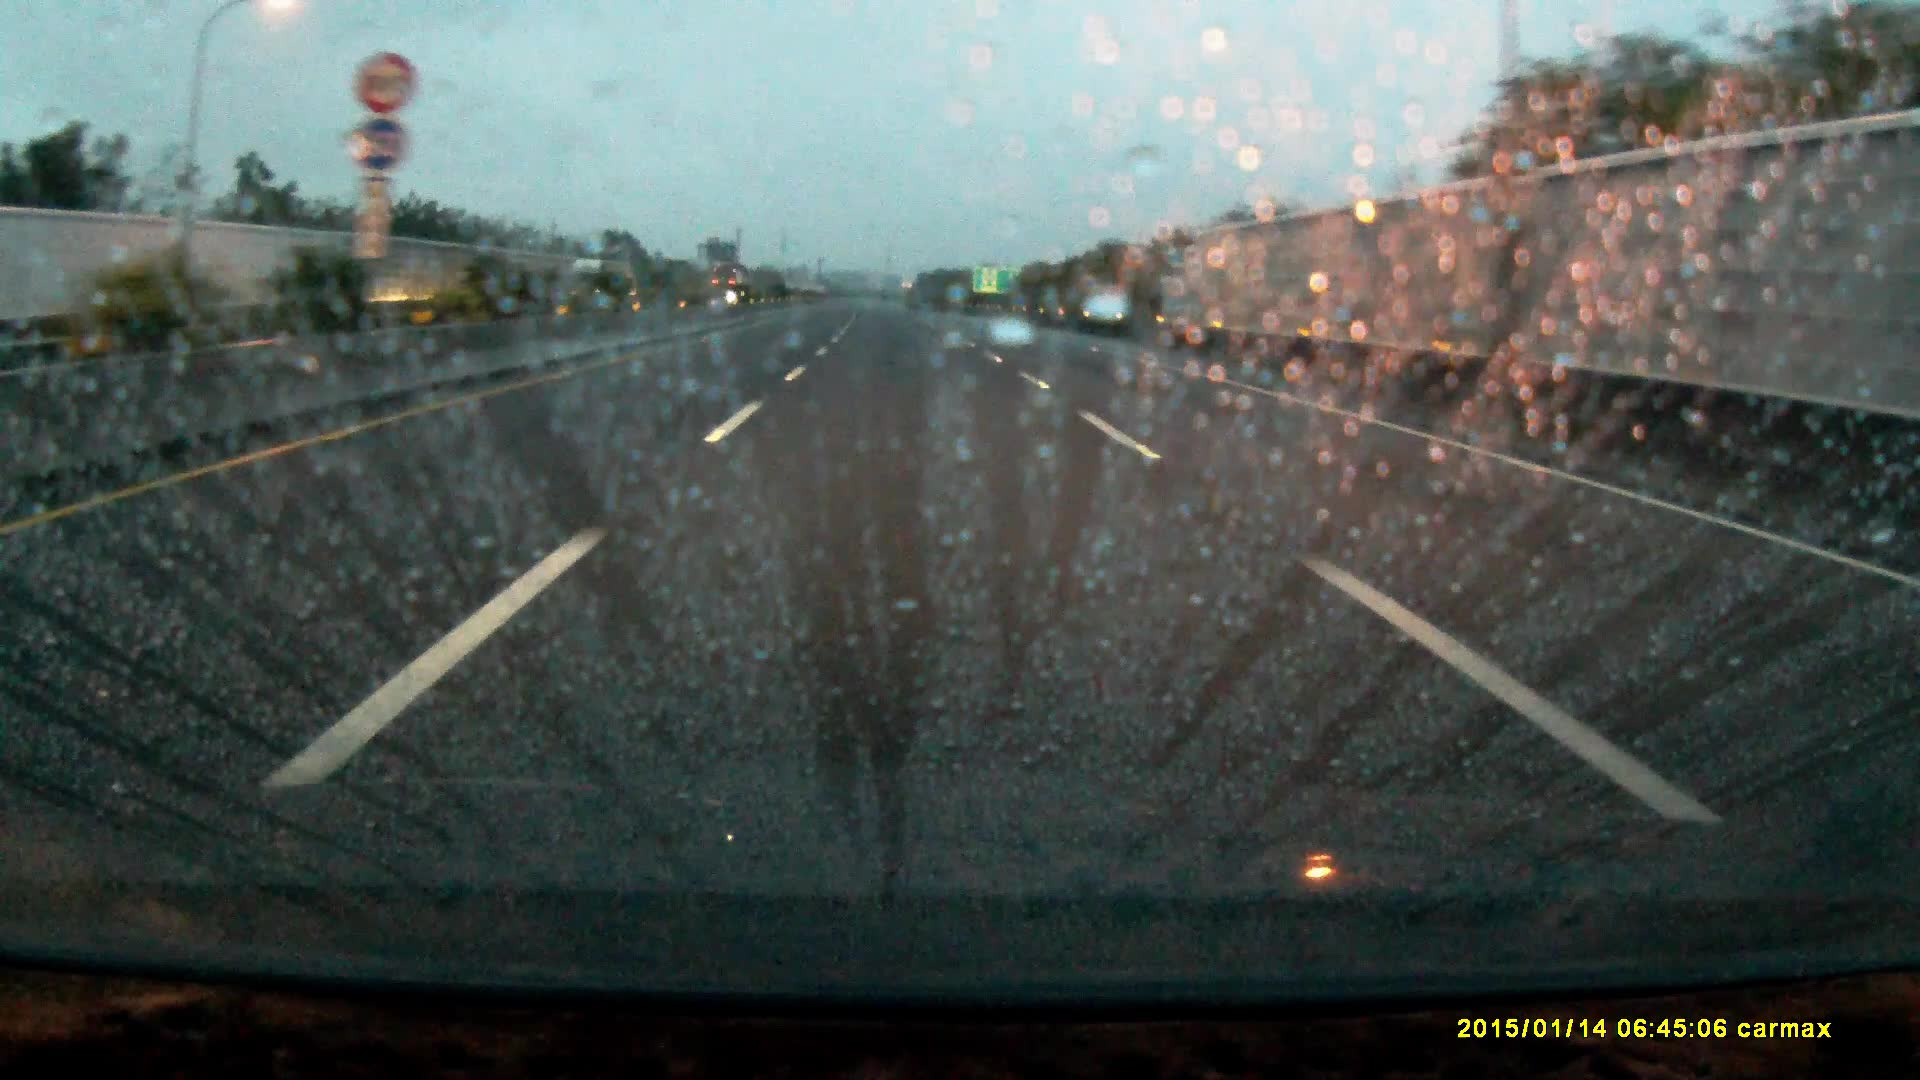vehicle: (566, 257, 626, 301), (709, 273, 746, 306)
